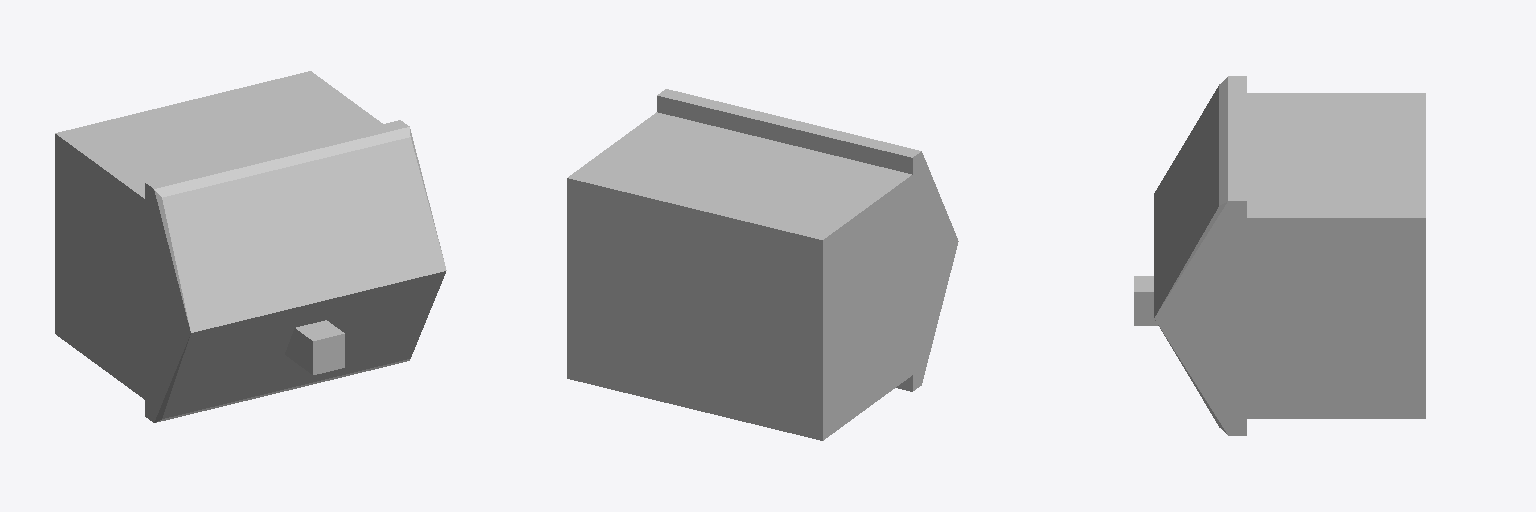
File: House.obj
The picture shows the model from 3 angles: view 1: azimuth 30°, elevation 25°; view 2: azimuth 150°, elevation 25°; view 3: azimuth 270°, elevation 25°; orthographic projection.
Parts seen in each view (by area): view 1: House_Mesh.011; view 2: House_Mesh.011; view 3: House_Mesh.011.
Part boxes in pixels (left/top/right/bottom): House_Mesh.011: left=55, top=71, right=446, bottom=422; House_Mesh.011: left=567, top=89, right=958, bottom=440; House_Mesh.011: left=1134, top=76, right=1425, bottom=435.
Bounding box in the file's own units: 18 × 15.75 × 17.83.